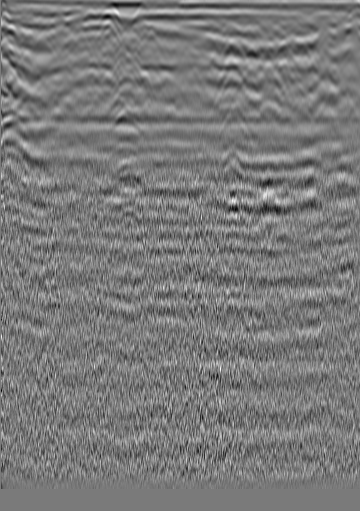가스: (102, 166, 153, 202)
상수: (29, 36, 49, 56)
오수: (295, 32, 315, 52)
우수: (155, 32, 181, 62)
